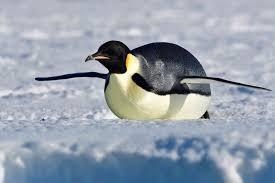emporer: (82, 30, 221, 137)
